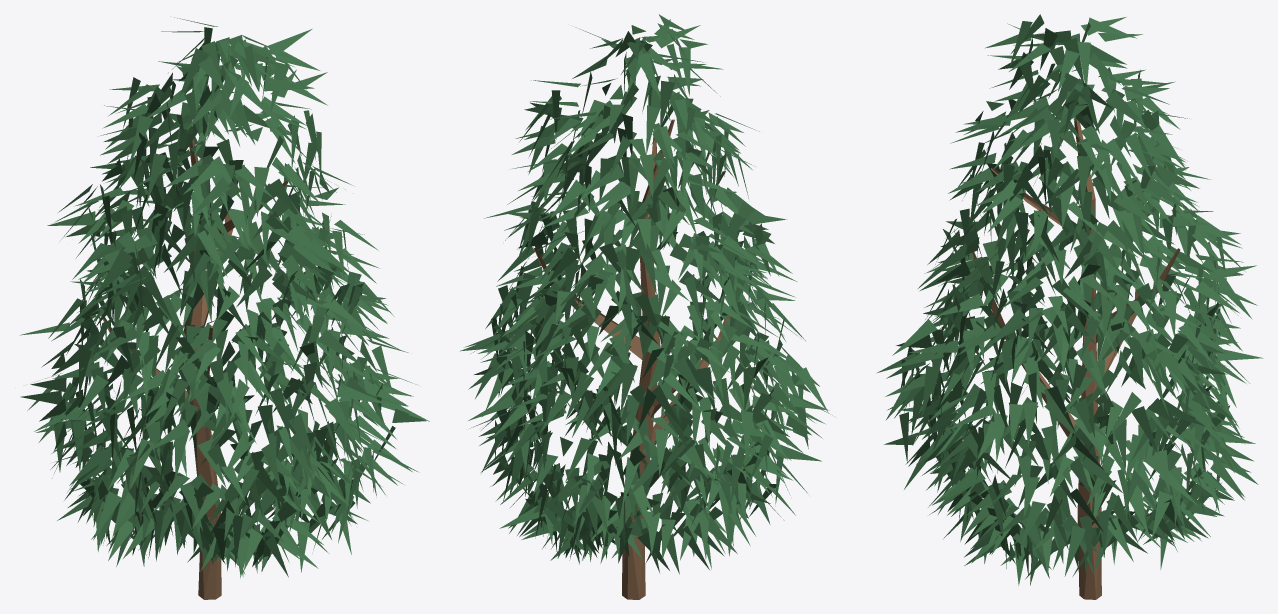
Rendered from tree-spruce-1-0.glb.
The picture shows the model from 3 angles, left to right: view 1: azimuth 30°, elevation 25°; view 2: azimuth 150°, elevation 25°; view 3: azimuth 270°, elevation 25°; orthographic projection. The views are drawn at different scales.
Visible parts, largest first — view 1: tree/spruce@1/0; view 2: tree/spruce@1/0; view 3: tree/spruce@1/0.
Part boxes in pixels (x1,y1,x2,y2): tree/spruce@1/0: (20, 17, 429, 599); tree/spruce@1/0: (460, 14, 832, 599); tree/spruce@1/0: (876, 14, 1263, 599).
Bounding box in the file's own units: 2527 × 4189 × 2618.
